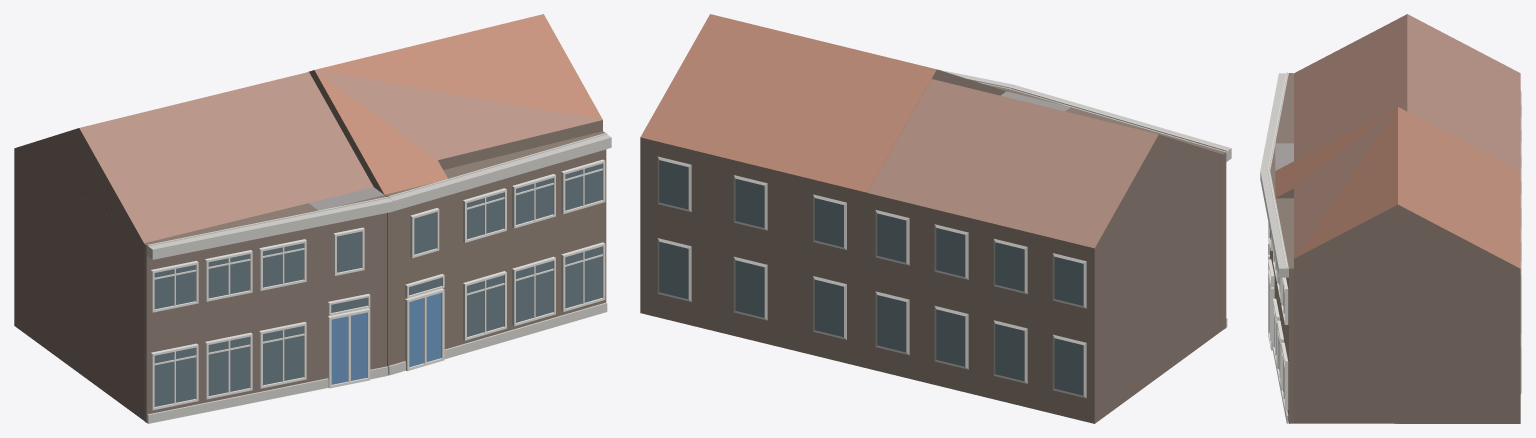
File: chunk-face-kraaipan-63-65.lod2.glb
3 views of the same model, side by side, from view 1: azimuth 30°, elevation 25°; view 2: azimuth 150°, elevation 25°; view 3: azimuth 270°, elevation 25° (orthographic). The views are drawn at different scales.
Visible parts, largest first — view 1: lod2; view 2: lod2; view 3: lod2.
Boxes of the visible parts, box(x1,y1,x2,y2) form: lod2: box(14, 14, 611, 423); lod2: box(640, 14, 1231, 423); lod2: box(1260, 14, 1521, 423).
Bounding box in the file's own units: 16.4 × 8.56 × 9.25.
